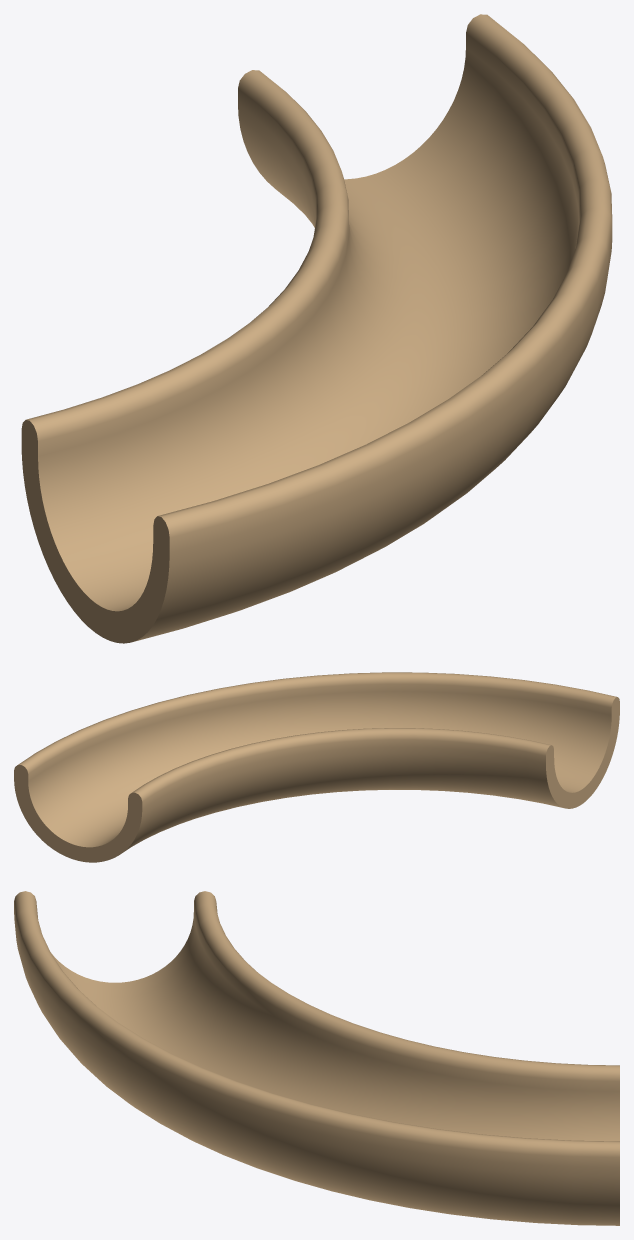
The model's file is rail_curve90_r90_l3.glb.
3 renders of one model, top to bottom at view 1: azimuth 30°, elevation 25°; view 2: azimuth 150°, elevation 25°; view 3: azimuth 270°, elevation 25°, orthographic. The views are drawn at different scales.
Parts seen in each view (by area): view 1: rail_curve90_r90_l3_lod0; view 2: rail_curve90_r90_l3_lod0; view 3: rail_curve90_r90_l3_lod0.
Part boxes in pixels (x1=…): rail_curve90_r90_l3_lod0: x1=21, y1=14, x2=612, y2=643; rail_curve90_r90_l3_lod0: x1=14, y1=672, x2=619, y2=862; rail_curve90_r90_l3_lod0: x1=14, y1=891, x2=619, y2=1225.
Size of what is drawn, in the model's own units: 0.1078 by 0.022 by 0.1078.
